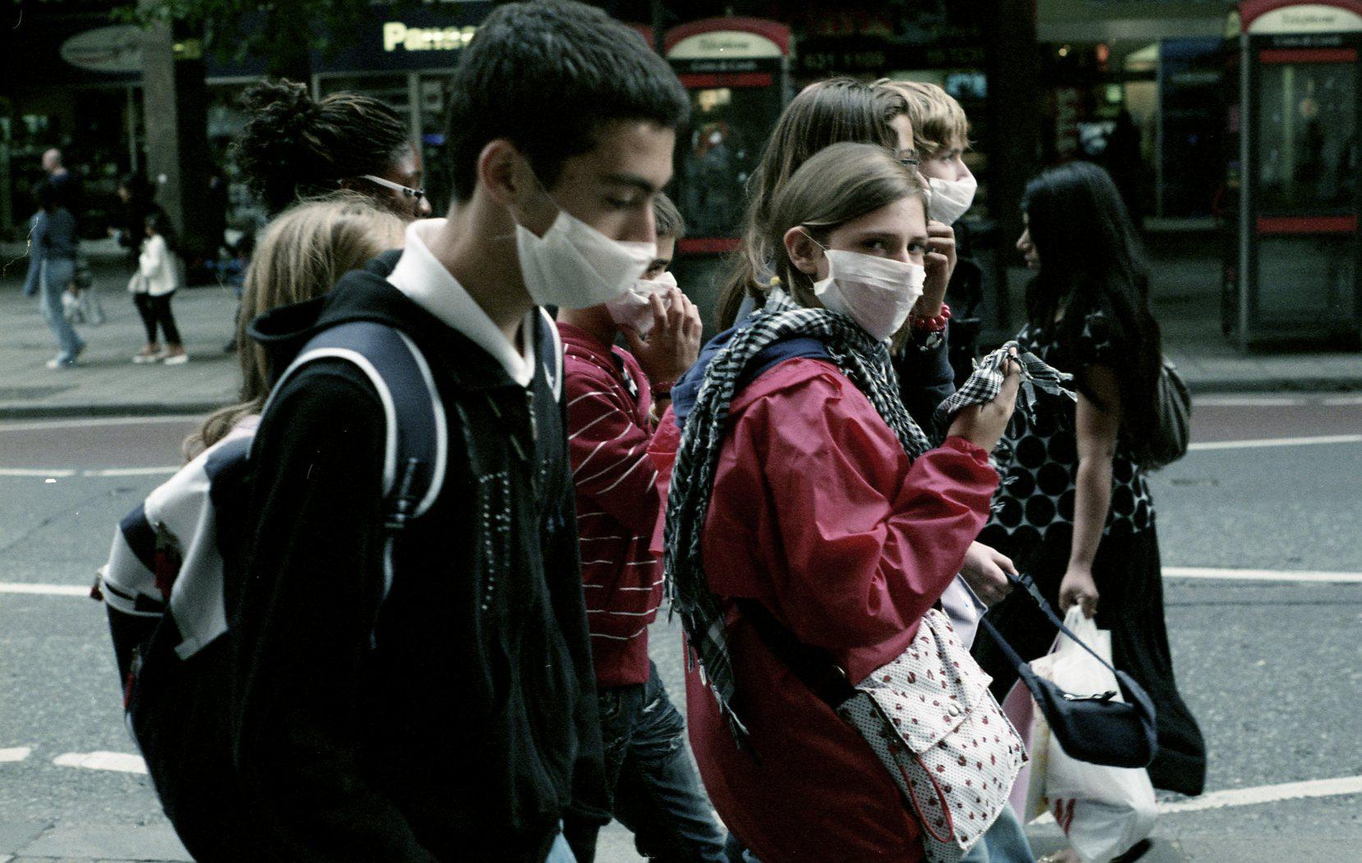OK: (822, 229, 929, 336), (586, 246, 683, 334)
WRONG: (497, 95, 663, 322), (900, 147, 984, 229)
